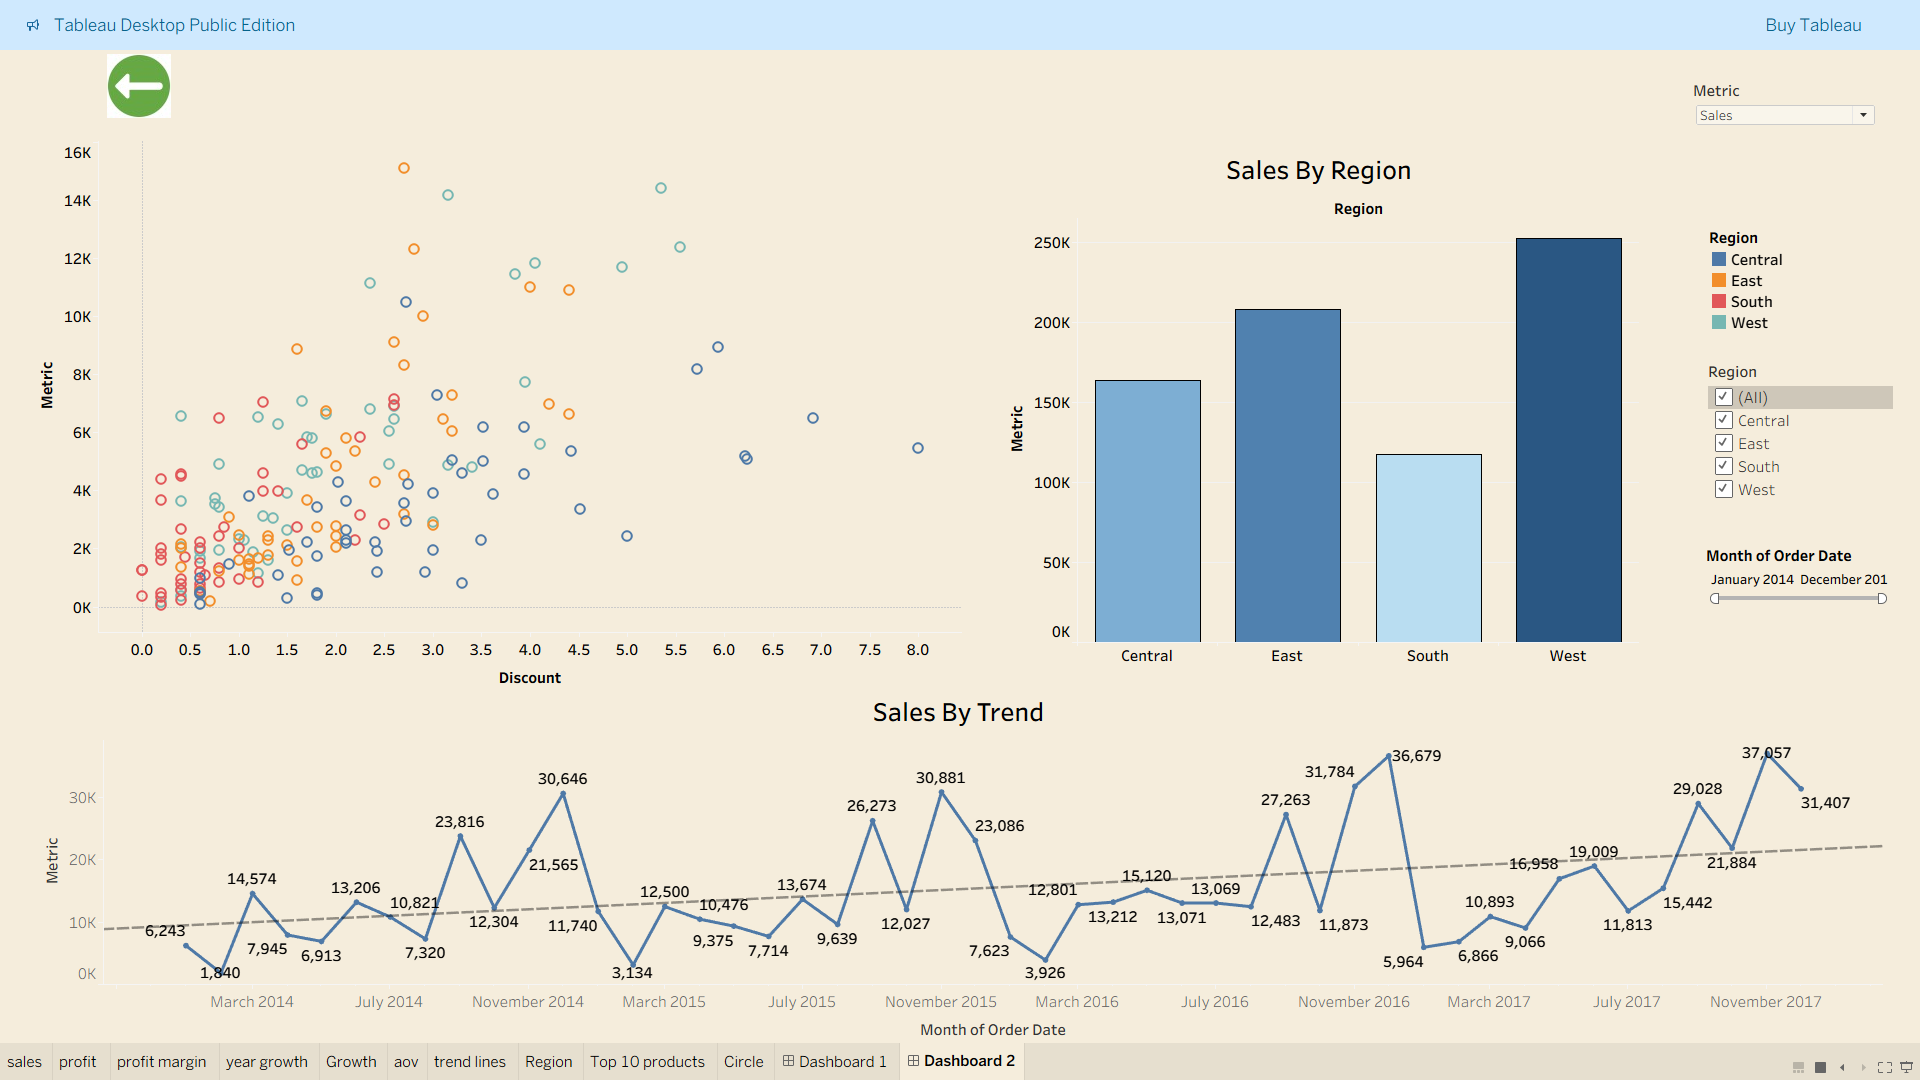

What the dashboard file says about the page in this screenshot:
{"tool":"tableau","page":{"name":"Dashboard 2","canvas":[1000,1000],"units":"permille","ordinal":1},"visuals":[{"type":"dashboard-object","box":[23.5,3.8,98.8,64.9]},{"type":"parameter","param":"[Parameters].[Parameter 1]","box":[881.9,30,96.4,59.9]},{"type":"worksheet","title":"Circle","mark":"Automatic","rows":["Calculation_1850135079084814344"],"cols":["Discount"],"box":[15.1,91.1,486.1,558.1]},{"type":"worksheet","title":"Region","mark":"Automatic","rows":["Calculation_1850135079084814344"],"cols":["Region"],"box":[520.5,98.6,333.1,536.8]},{"type":"legend","title":"Circle","param":"[federated.09pl5a81gb49yt11yrnxc1l9p0f7].[none:Region:nk]","box":[890.4,178.5,84.3,132.3]},{"type":"filter","title":"trend lines","param":"[federated.09pl5a81gb49yt11yrnxc1l9p0f7].[none:Region:nk]","box":[889.8,313.4,96.4,178.5]},{"type":"filter","title":"Region","param":"[federated.09pl5a81gb49yt11yrnxc1l9p0f7].[tmn:Order Date:qk]","box":[888.6,498.1,96.4,81.2]},{"type":"worksheet","title":"trend lines","mark":"Automatic","rows":["Calculation_1850135079084814344"],"cols":["Order Date"],"box":[17.5,644.2,963.2,359.6]}]}

Visuals, with their boxes on the dashboard's canvas, which has no fixed pixel size, in thousandths of its width and height (x1, y1, x2, y2). These are canvas units, not pixel positions in the 1920x1080 screenshot, which may show the page scaled, cropped or inside an application window:
dashboard-object: (left=24, top=4, right=122, bottom=69)
parameter: (left=882, top=30, right=978, bottom=90)
"Circle" worksheet: (left=15, top=91, right=501, bottom=649)
"Region" worksheet: (left=520, top=99, right=854, bottom=635)
"Circle" legend: (left=890, top=178, right=975, bottom=311)
"trend lines" filter: (left=890, top=313, right=986, bottom=492)
"Region" filter: (left=889, top=498, right=985, bottom=579)
"trend lines" worksheet: (left=18, top=644, right=981, bottom=1004)
